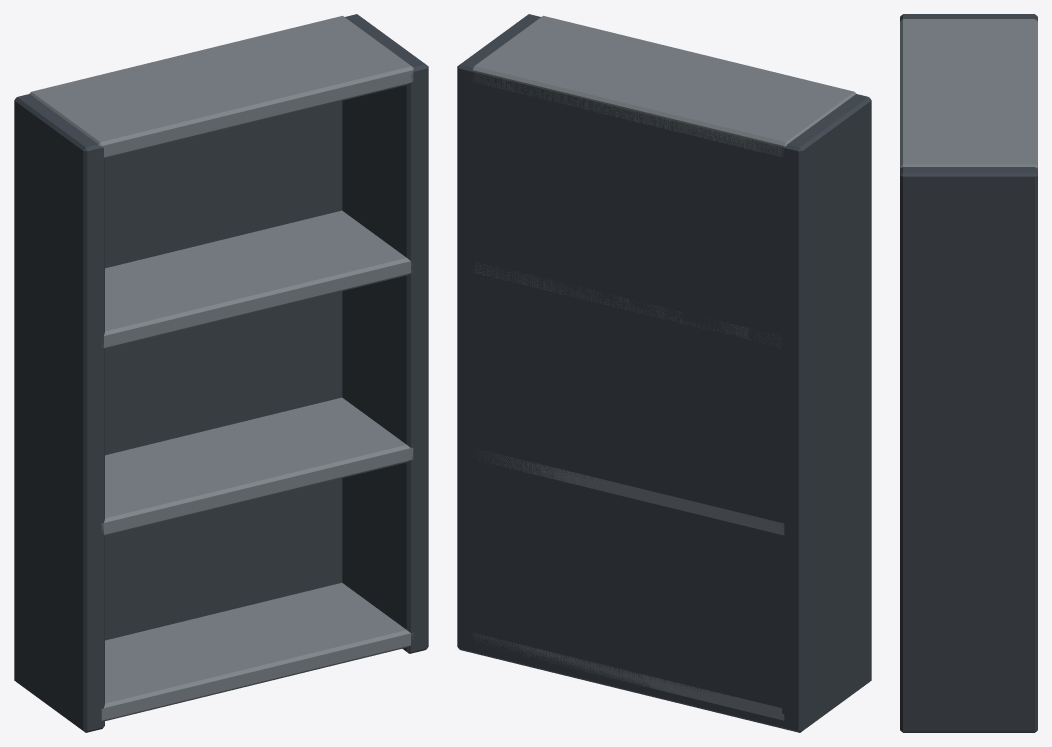
The model's file is Bookcase.fbx.
The picture shows the model from 3 angles, left to right: view 1: azimuth 30°, elevation 25°; view 2: azimuth 150°, elevation 25°; view 3: azimuth 270°, elevation 25°; orthographic projection. The views are drawn at different scales.
Parts seen in each view (by area): view 1: Bookcase; view 2: Bookcase; view 3: Bookcase.
Part boxes in pixels (left/top/right/bottom): Bookcase: left=14, top=14, right=428, bottom=732; Bookcase: left=457, top=14, right=871, bottom=732; Bookcase: left=900, top=14, right=1037, bottom=732.
Size of the model in its own units: 102 by 167 by 37.
Materials: 1 (1 with a texture image).
